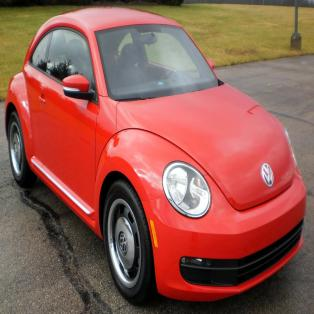Auto: (5, 7, 306, 302)
